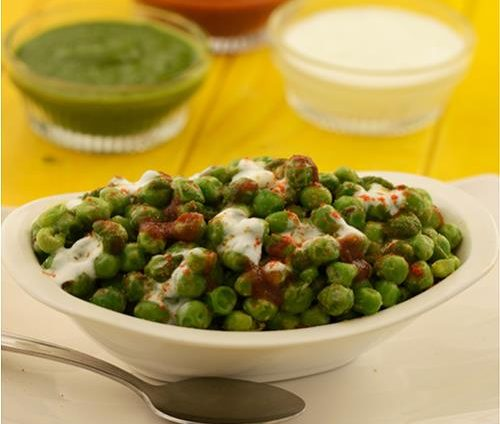boiled peas: (59, 161, 440, 311)
